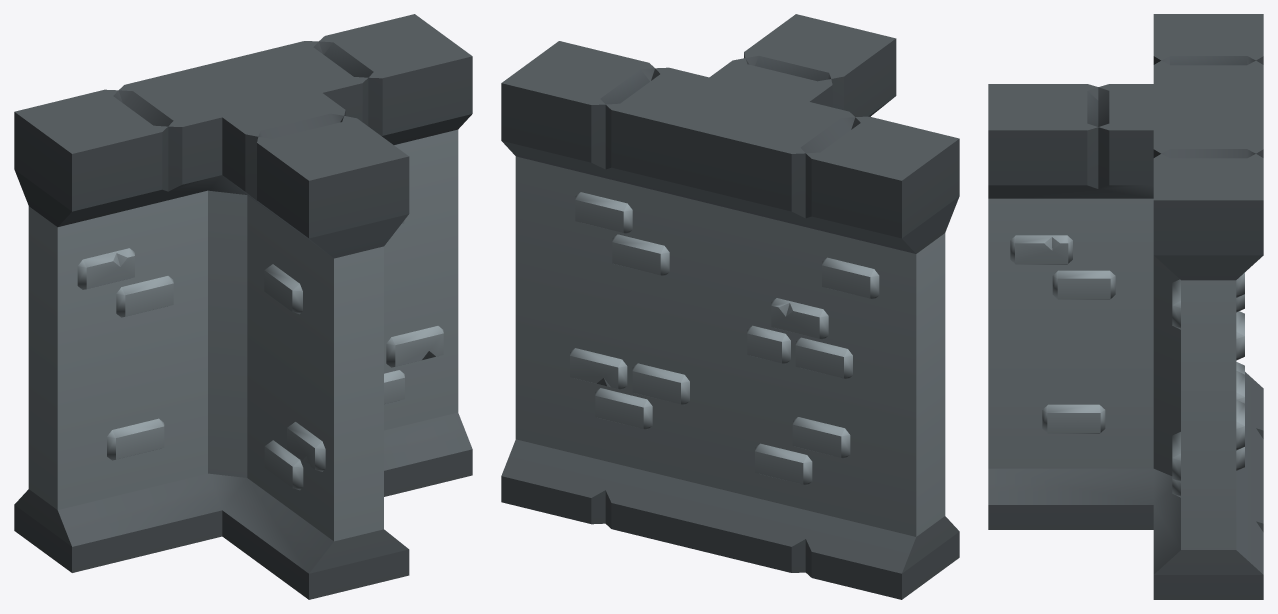
Rendered from wall_tsplit.fbx.
3 renders of one model, left to right at view 1: azimuth 30°, elevation 25°; view 2: azimuth 150°, elevation 25°; view 3: azimuth 270°, elevation 25°, orthographic. The views are drawn at different scales.
Parts seen in each view (by area): view 1: wall_Tsplit; view 2: wall_Tsplit; view 3: wall_Tsplit.
Boxes of the visible parts, bbox=[...] form: wall_Tsplit: bbox=[14, 14, 472, 599]; wall_Tsplit: bbox=[501, 14, 959, 599]; wall_Tsplit: bbox=[988, 14, 1263, 599].
Size of the model in its own units: 400 by 400 by 250.
1 material, 1 textured.
